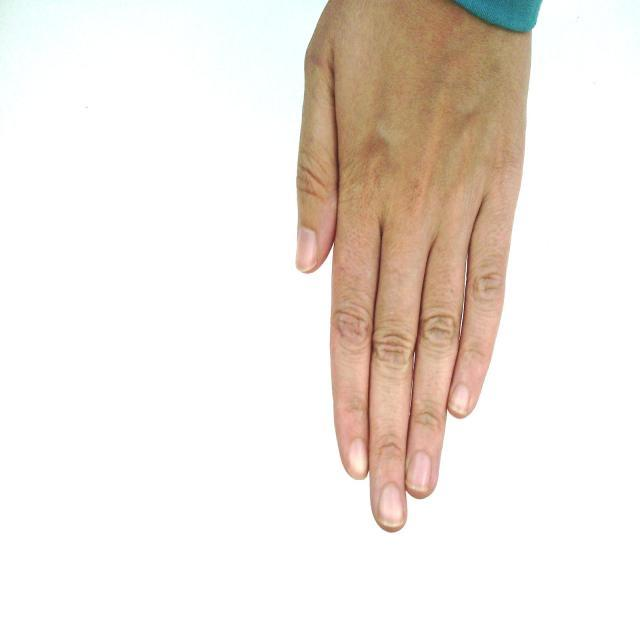Fingernail: (380, 484, 404, 526), (409, 452, 432, 492), (297, 228, 318, 271), (347, 440, 366, 477), (451, 385, 469, 413)
